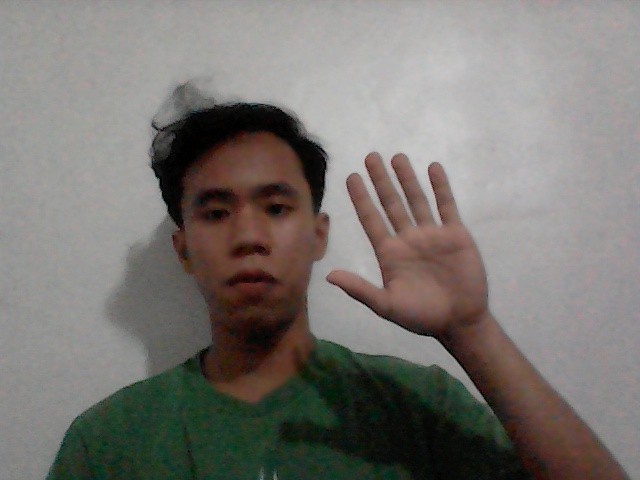Hello: (309, 144, 522, 356)
